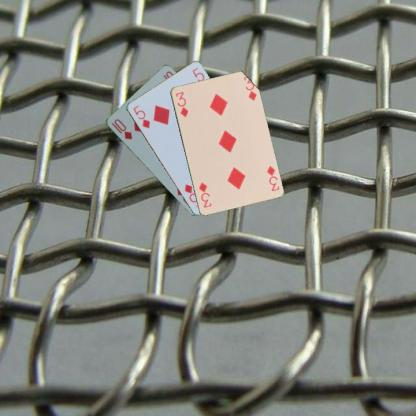10d: (112, 116, 134, 141)
3d: (172, 89, 190, 118), (264, 163, 280, 192)
5d: (130, 102, 151, 130)
